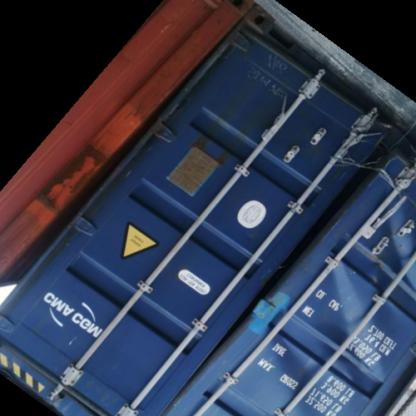Damage: (268, 133, 414, 403), (186, 119, 240, 172)
